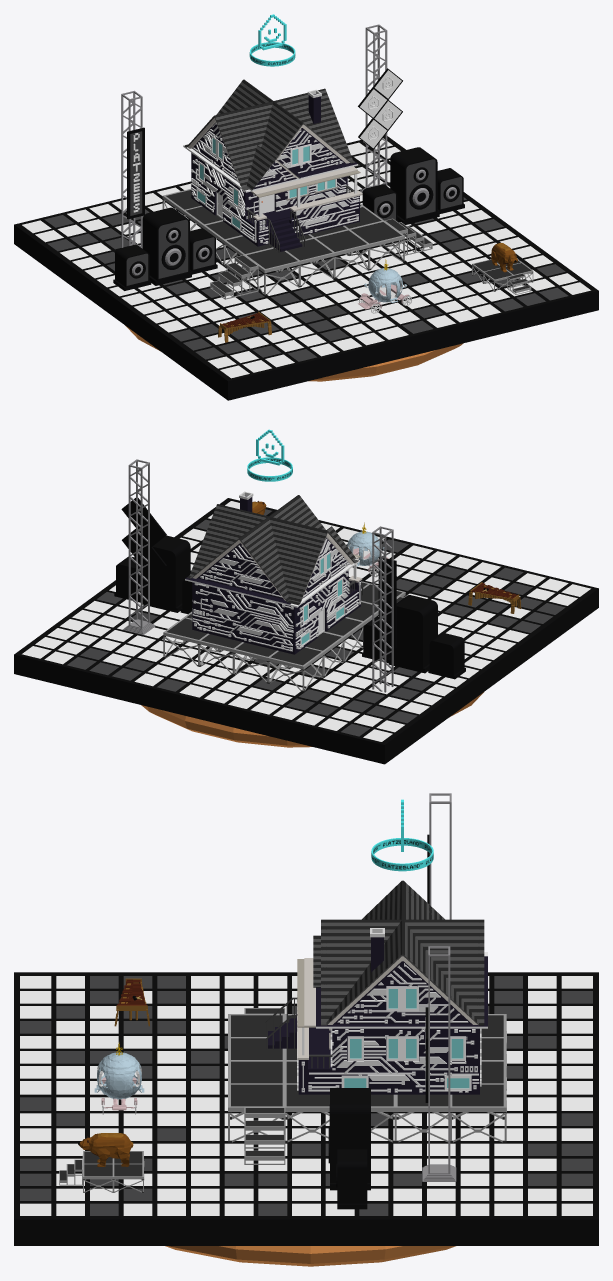
3 renders of one model, top to bottom at view 1: azimuth 30°, elevation 25°; view 2: azimuth 150°, elevation 25°; view 3: azimuth 270°, elevation 25°, orthographic. The views are drawn at different scales.
Visible parts, largest first — view 1: Cube.008, Cube.918, VEHICLES_FANTASY_CARRIAGE, UNDERGROUND_PIZZA, TYPE_PREMIUM, OBJRANDOM_MARIMBA, ANIMAL_OSO; view 2: Cube.008, Cube.918, UNDERGROUND_PIZZA, VEHICLES_FANTASY_CARRIAGE, TYPE_PREMIUM, OBJRANDOM_MARIMBA; view 3: Cube.008, Cube.918, UNDERGROUND_PIZZA, VEHICLES_FANTASY_CARRIAGE, ANIMAL_OSO, TYPE_PREMIUM, OBJRANDOM_MARIMBA.
Boxes of the visible parts, left/top/right/bottom form: Cube.008: left=14, top=24, right=598, bottom=400; Cube.918: left=183, top=79, right=362, bottom=252; VEHICLES_FANTASY_CARRIAGE: left=358, top=259, right=411, bottom=313; UNDERGROUND_PIZZA: left=125, top=325, right=463, bottom=381; TYPE_PREMIUM: left=249, top=14, right=295, bottom=66; OBJRANDOM_MARIMBA: left=218, top=311, right=271, bottom=342; ANIMAL_OSO: left=491, top=243, right=517, bottom=272; Cube.008: left=14, top=459, right=598, bottom=764; Cube.918: left=185, top=491, right=363, bottom=654; UNDERGROUND_PIZZA: left=141, top=692, right=483, bottom=747; VEHICLES_FANTASY_CARRIAGE: left=347, top=522, right=388, bottom=577; TYPE_PREMIUM: left=247, top=429, right=292, bottom=481; OBJRANDOM_MARIMBA: left=468, top=582, right=521, bottom=613; Cube.008: left=14, top=793, right=598, bottom=1245; Cube.918: left=265, top=880, right=487, bottom=1094; UNDERGROUND_PIZZA: left=165, top=1246, right=455, bottom=1266; VEHICLES_FANTASY_CARRIAGE: left=94, top=1042, right=144, bottom=1114; ANIMAL_OSO: left=78, top=1133, right=133, bottom=1166; TYPE_PREMIUM: left=371, top=799, right=433, bottom=871; OBJRANDOM_MARIMBA: left=114, top=978, right=149, bottom=1026.
Size of the model in its own units: 4000 by 2723 by 4000.
Materials: 44 (2 with a texture image).
